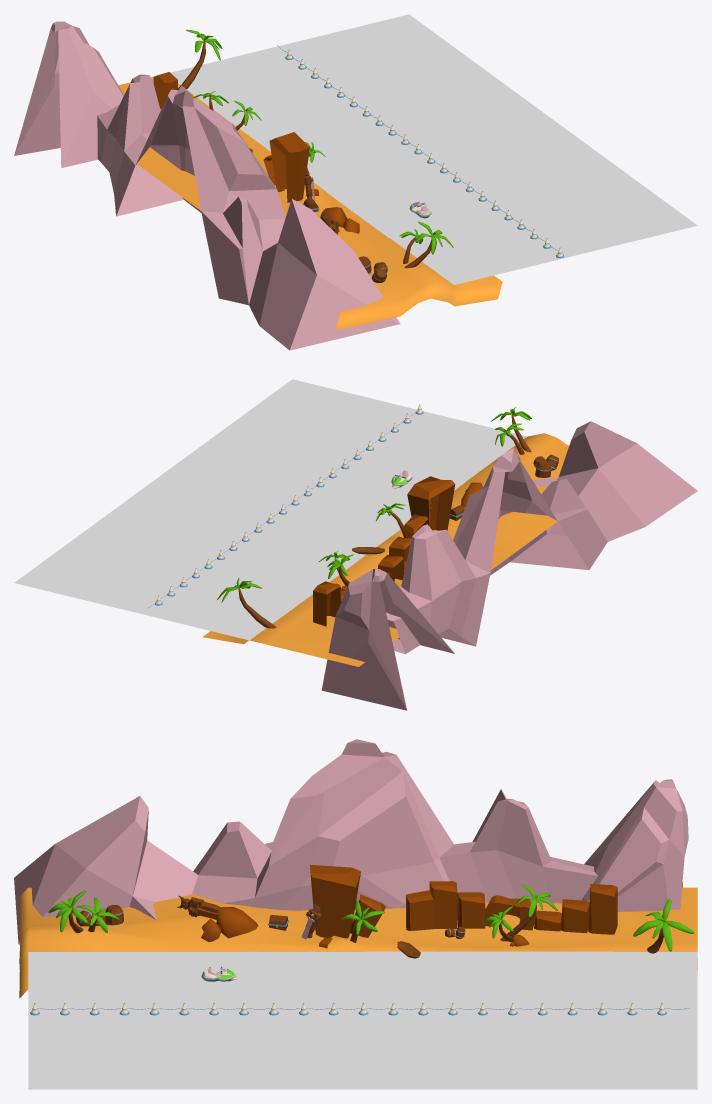
The model's file is Boat_Map (2).fbx.
3 views of the same model, one above another, from view 1: azimuth 30°, elevation 25°; view 2: azimuth 150°, elevation 25°; view 3: azimuth 270°, elevation 25° (orthographic). The views are drawn at different scales.
Visible parts, largest first — view 1: Plane, Plane.001, Cube; view 2: Plane, Plane.001, Cube; view 3: Plane.001, Plane, Cube.
Boxes of the visible parts, left/top/right/bottom form: Plane: left=171, top=14, right=697, bottom=284; Plane.001: left=14, top=21, right=502, bottom=350; Cube: left=277, top=45, right=564, bottom=258; Plane: left=14, top=379, right=527, bottom=640; Plane.001: left=202, top=407, right=697, bottom=710; Cube: left=147, top=404, right=423, bottom=608; Plane.001: left=14, top=739, right=697, bottom=998; Plane: left=28, top=951, right=697, bottom=1089; Cube: left=30, top=1003, right=689, bottom=1015.
Size of the model in its own units: 6012 by 2440 by 7415.
